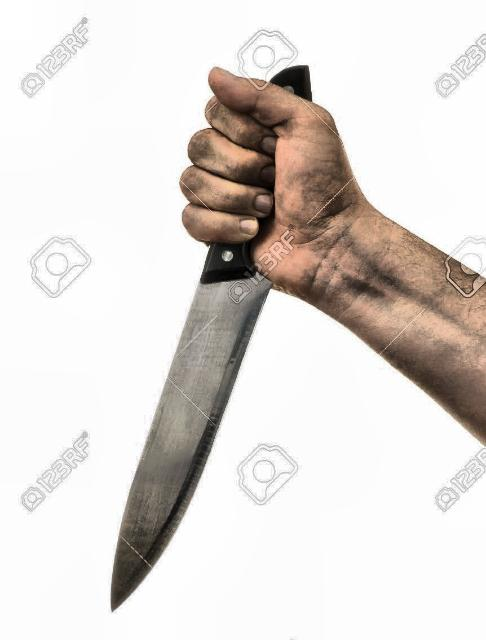knife: (98, 99, 330, 622)
